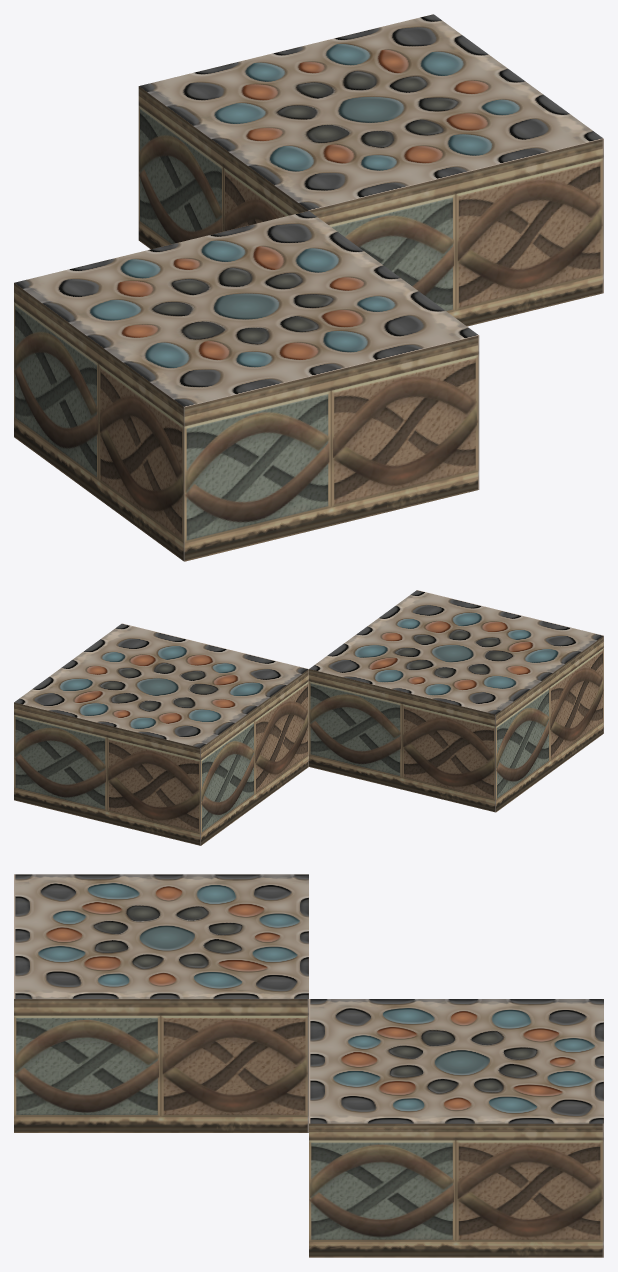
The model's file is DI_009_pattern_block_var02.glb.
3 renders of one model, top to bottom at view 1: azimuth 30°, elevation 25°; view 2: azimuth 150°, elevation 25°; view 3: azimuth 270°, elevation 25°, orthographic. The views are drawn at different scales.
Parts seen in each view (by area): view 1: Block.003, Block.004; view 2: Block.003, Block.004; view 3: Block.003, Block.004.
Part boxes in pixels (<box>): Block.003: <box>14,211,479,561</box>; Block.004: <box>138,14,603,326</box>; Block.003: <box>309,590,603,812</box>; Block.004: <box>14,623,308,845</box>; Block.003: <box>14,874,308,1132</box>; Block.004: <box>309,999,603,1257</box>.
Bounding box in the file's own units: 1.5 × 0.375 × 1.5.
Materials: 1 (1 with a texture image).
